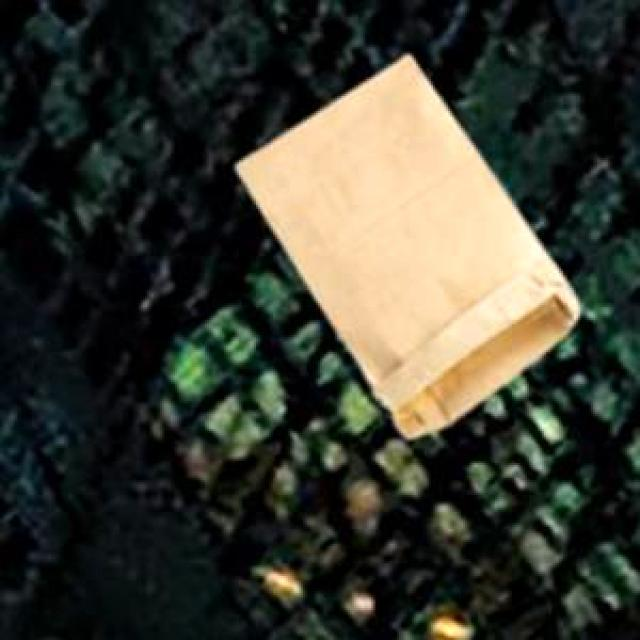Paper_Bag: (233, 52, 578, 434)
